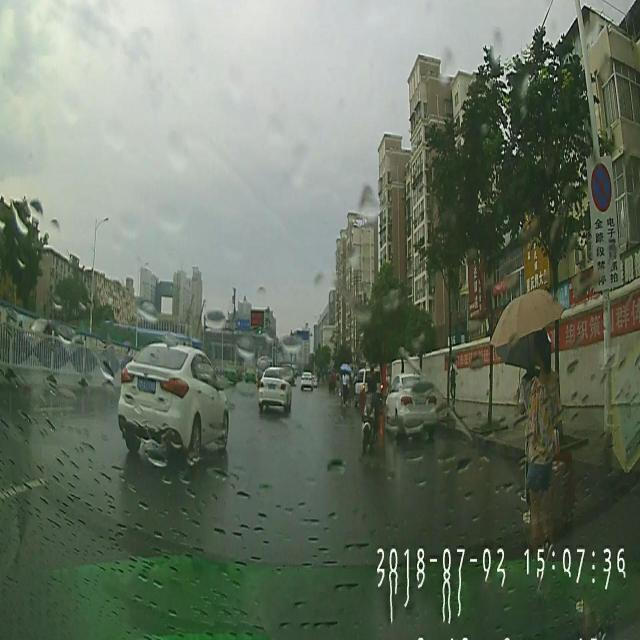car: (116, 340, 229, 468), (384, 374, 437, 446), (24, 317, 64, 372), (258, 363, 294, 412), (301, 370, 313, 390), (312, 371, 318, 386)
